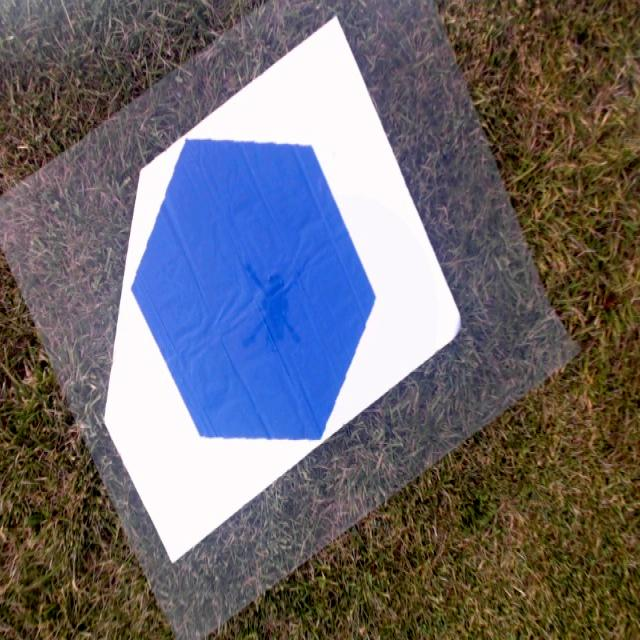blue_hexagon: (131, 136, 377, 439)
